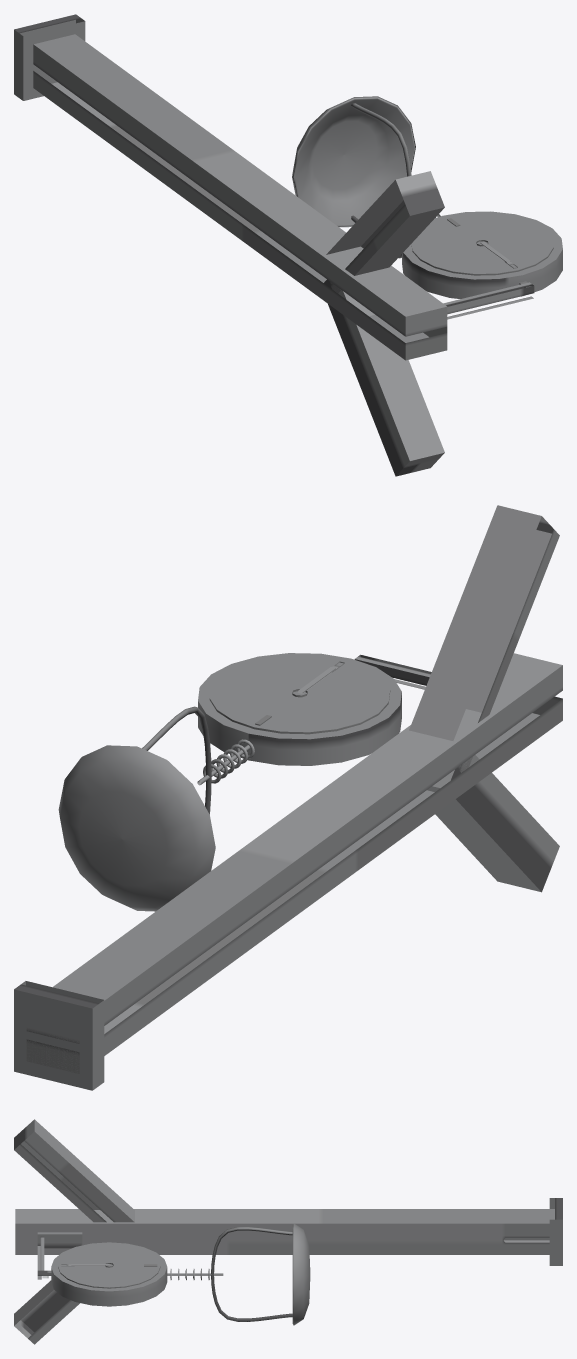
3 views of the same model, one above another, from view 1: azimuth 30°, elevation 25°; view 2: azimuth 150°, elevation 25°; view 3: azimuth 270°, elevation 25° (orthographic). The views are drawn at different scales.
Bounding box in the file's own units: 0.825 × 1.05 × 2.46.
